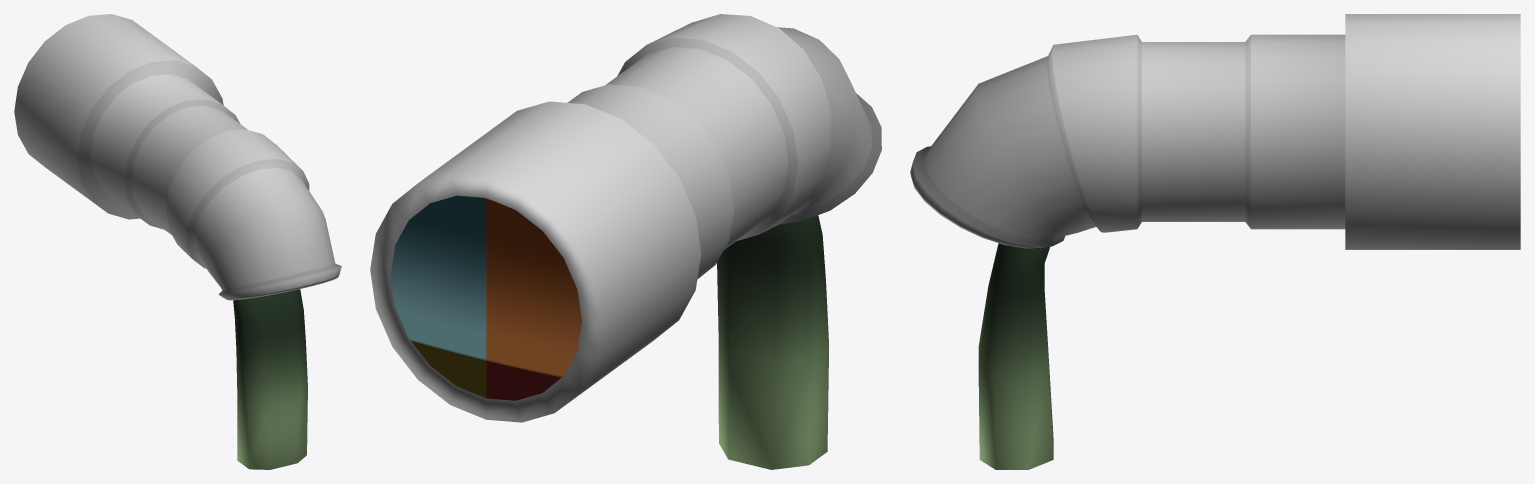
The model's file is M_Pipe.fbx.
The picture shows the model from 3 angles, left to right: view 1: azimuth 30°, elevation 25°; view 2: azimuth 150°, elevation 25°; view 3: azimuth 270°, elevation 25°; orthographic projection. The views are drawn at different scales.
Parts seen in each view (by area): view 1: Pipe; view 2: Pipe; view 3: Pipe.
Part boxes in pixels (x1,y1,x2,y2): Pipe: (14,14,341,469); Pipe: (370,14,881,469); Pipe: (910,14,1520,469).
Bounding box in the file's own units: 6.58 × 13.02 × 16.9.
